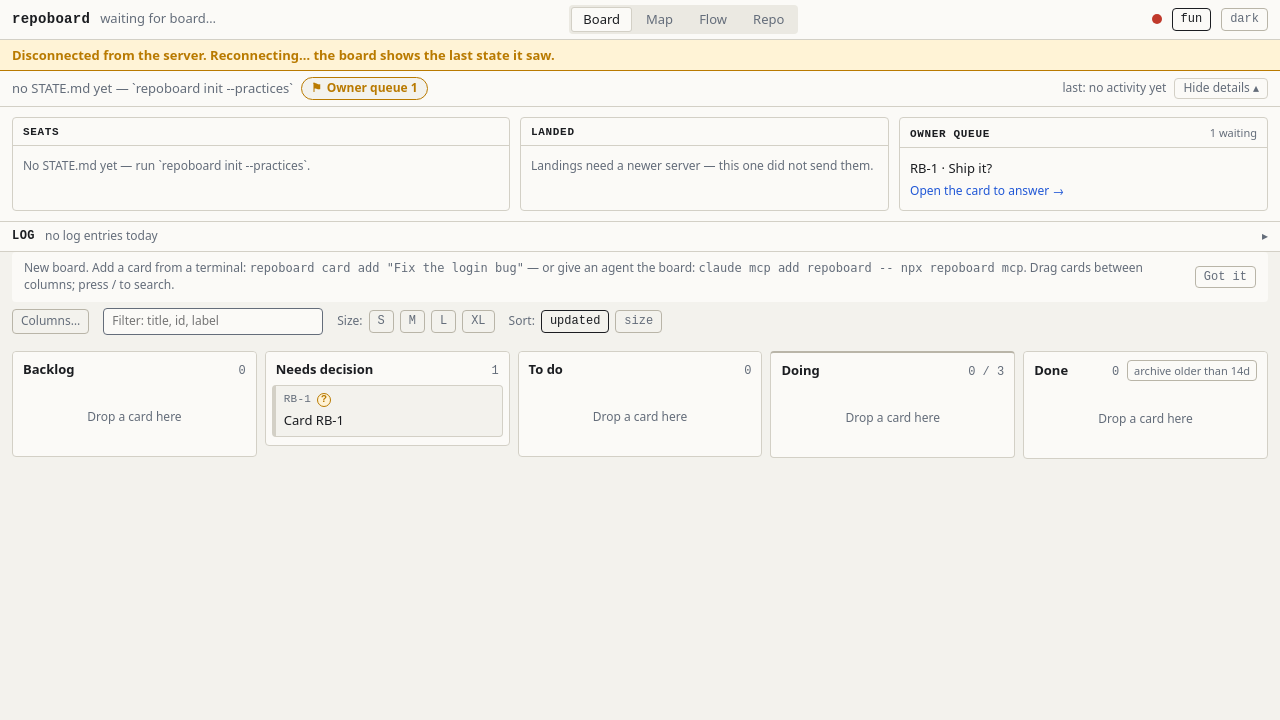
Test: Drawer: Decision section › words alone enables Decide and is sent without a letter
This screenshot has width=1280, height=720.
Click the button titled "Open RB-1".
click(297, 400)  # box [284,392,311,408]
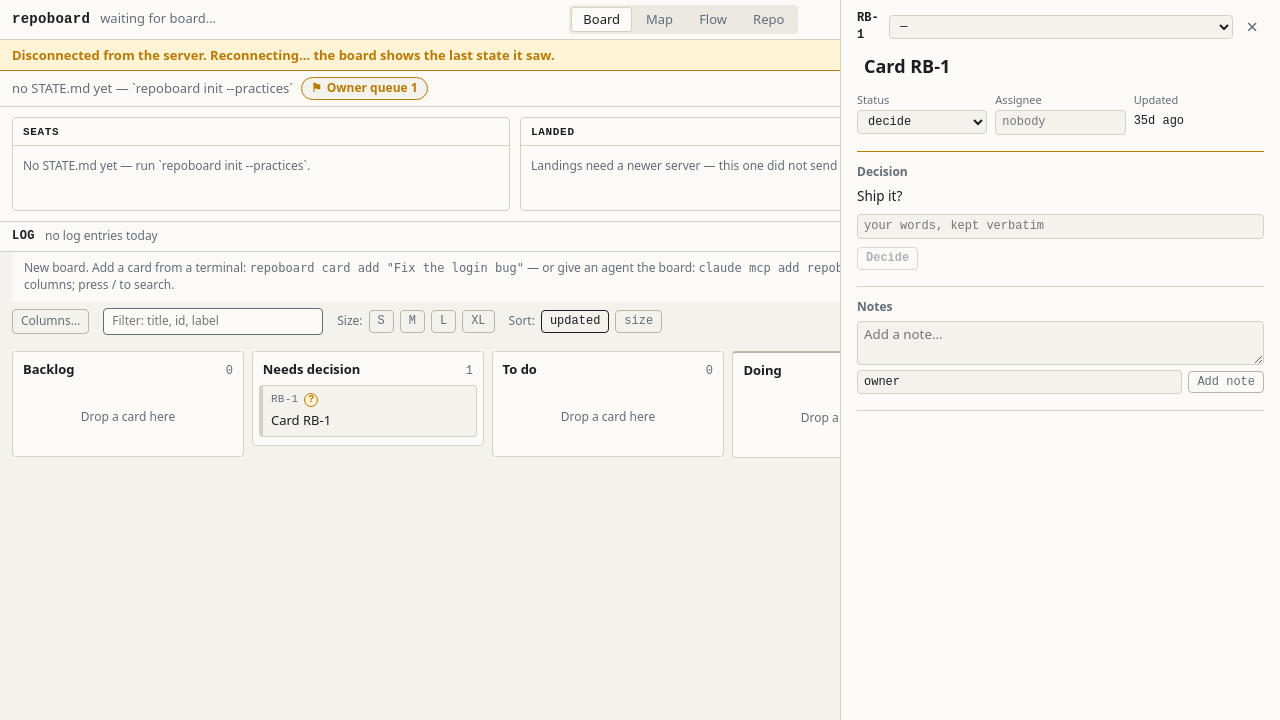
Now the button "Decide" is disabled, box [857,247,918,270]
Type "go for it" into the field labelled "your words".
click(1060, 226); type("go for it")  # box [857,214,1264,239]
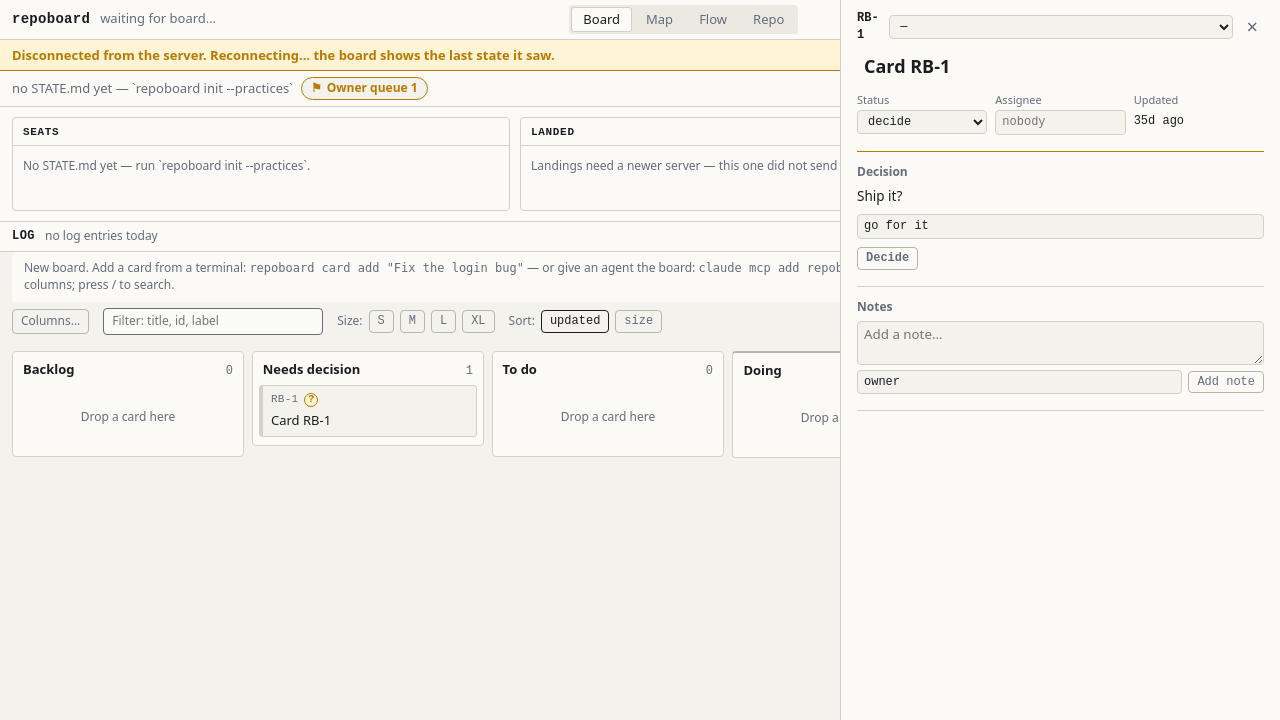
Now the button "Decide" is enabled
Click the button "Decide".
click(888, 258)  # box [857,247,918,270]
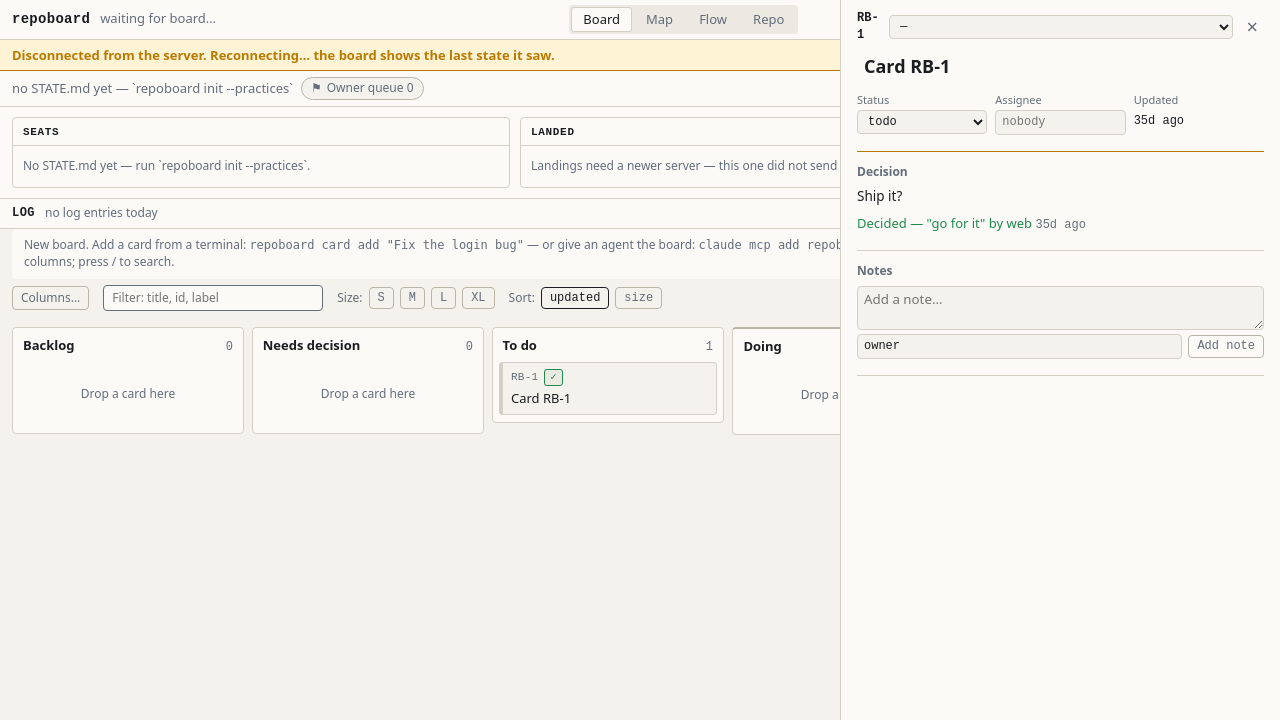
Now the element with test id "decision-answer" shows "\"go for it\"", box [907,214,985,232]
